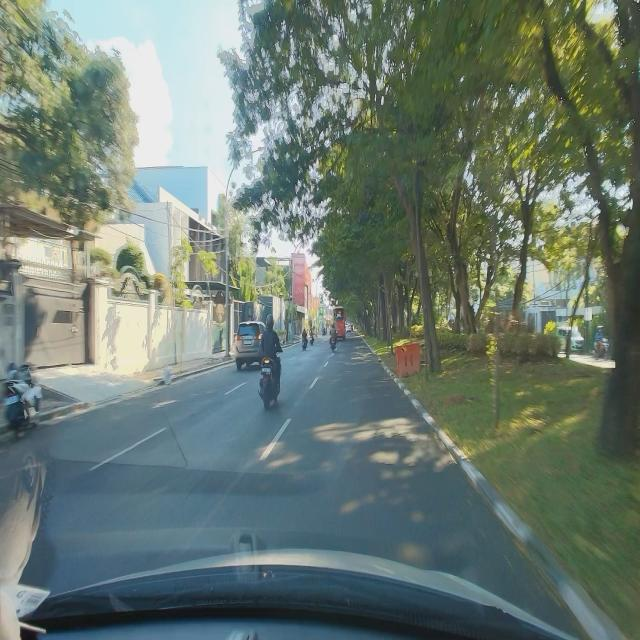car: (234, 321, 268, 370)
license-plate: (244, 340, 252, 345)
